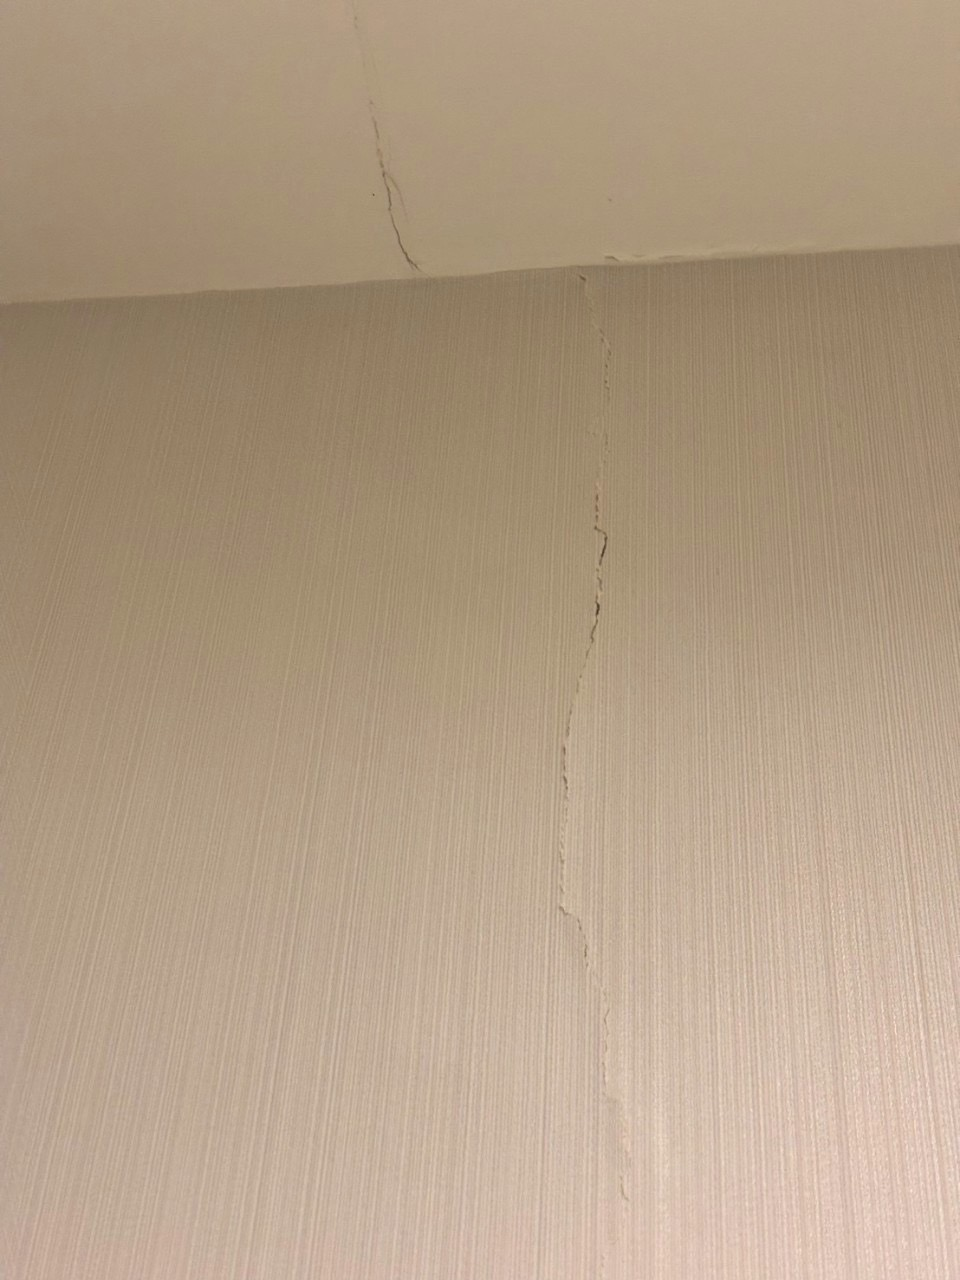Low: (485, 263, 735, 1280)
